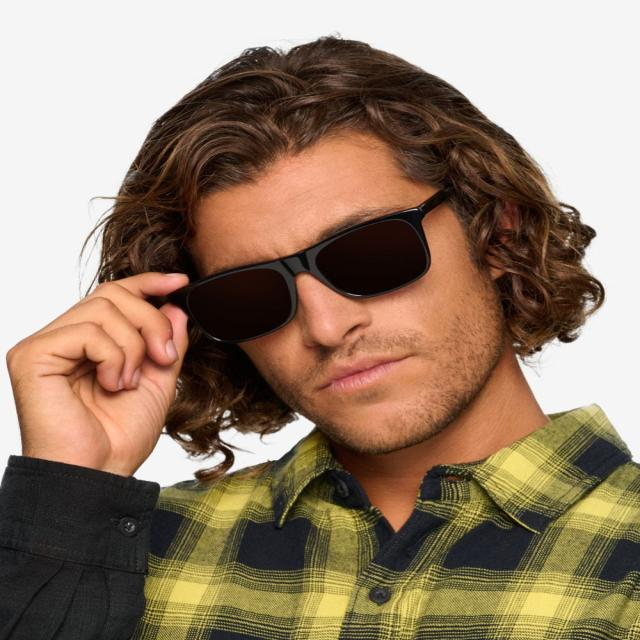2_gafas: (179, 184, 455, 345)
